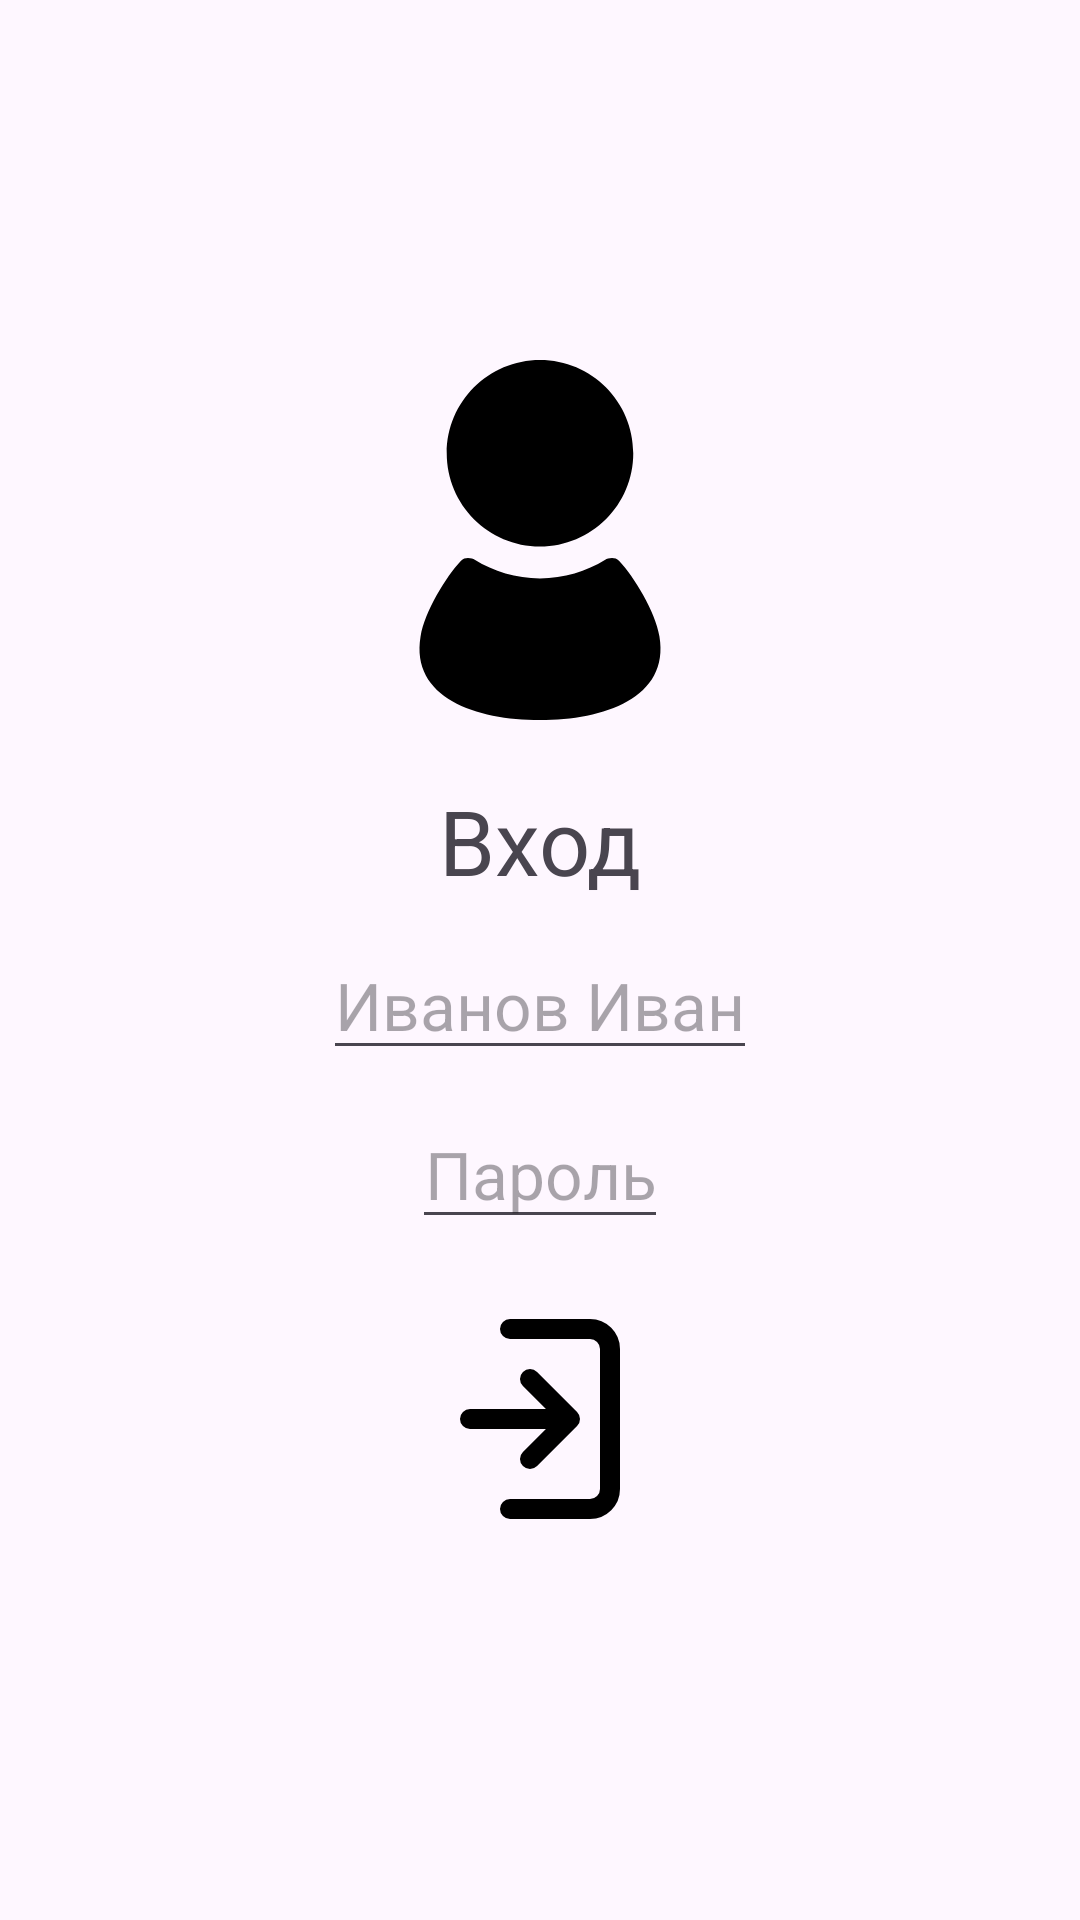

Icons on this 1080*1920 Android screen, each with its box as (x1, y1, x2, y2):
login: (460, 1319, 620, 1519)
person: (419, 360, 661, 720)
